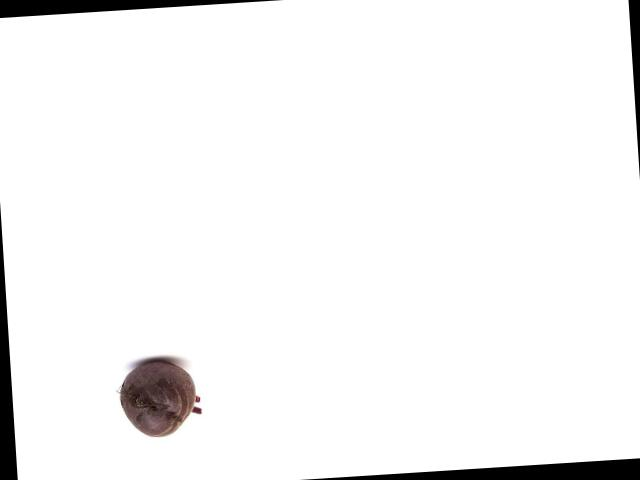beet: (117, 356, 201, 439)
